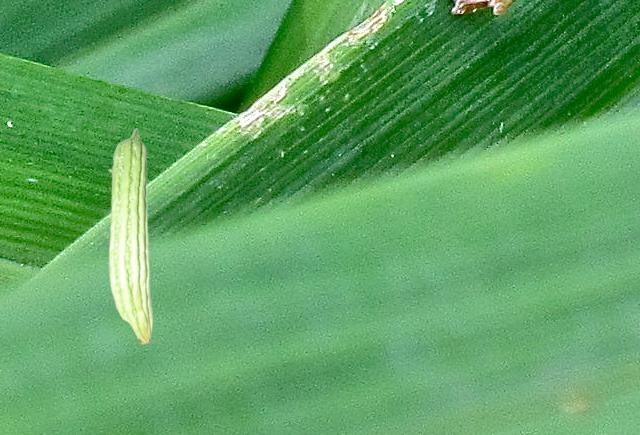ampalaya: (106, 128, 153, 345)
